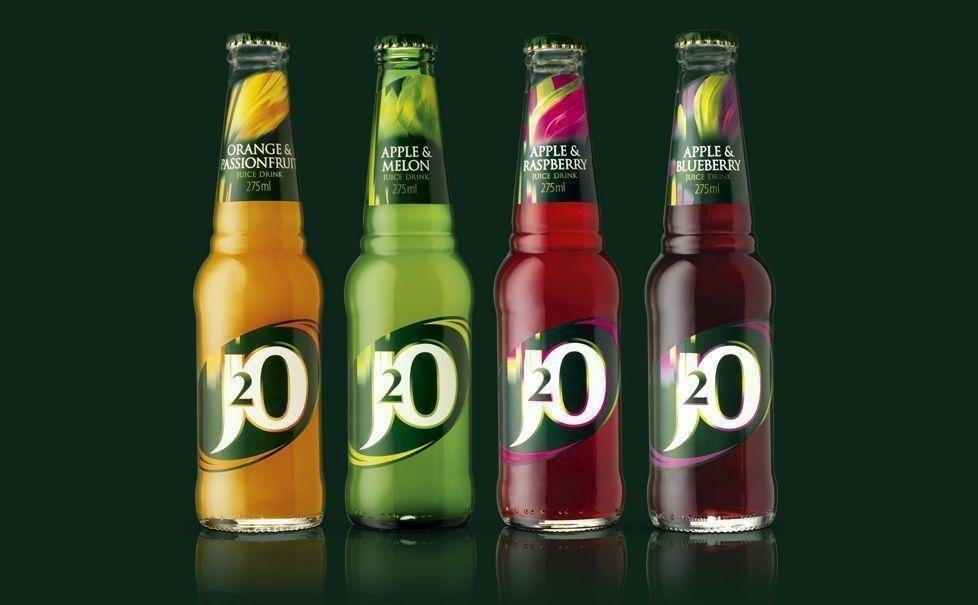bottle-glass: (638, 25, 784, 537), (187, 28, 330, 538), (337, 29, 479, 532), (489, 28, 629, 538)
